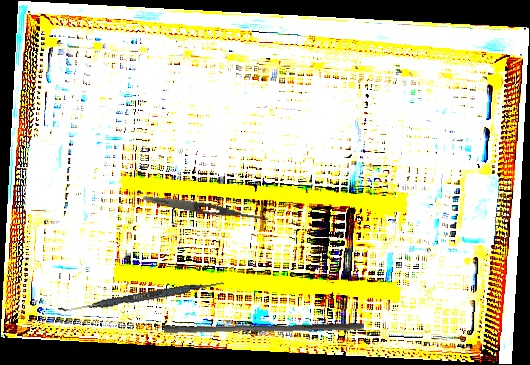Dressing Forceps: (141, 192, 272, 225)
Pusher: (163, 314, 365, 341)
Spatula Surgical: (57, 276, 225, 318)
